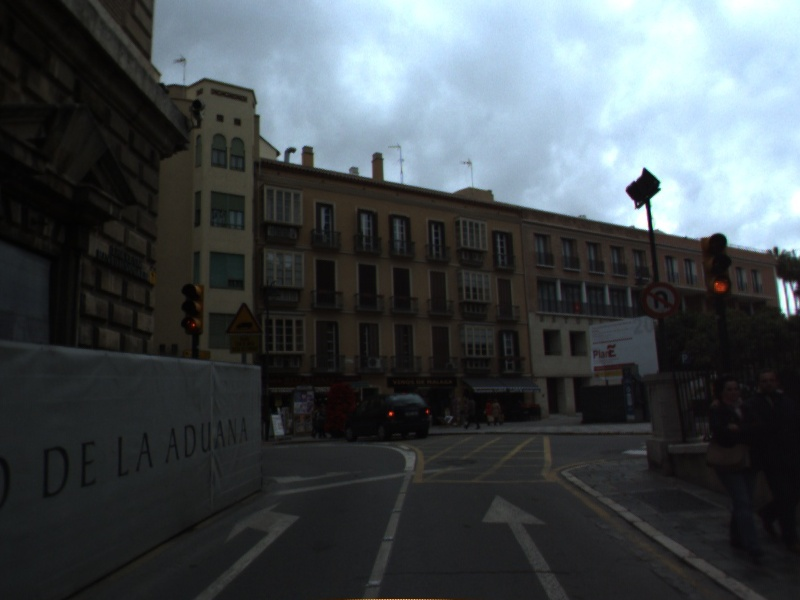LEFT: (188, 498, 305, 600)
STRAIGHT: (480, 492, 572, 600)
